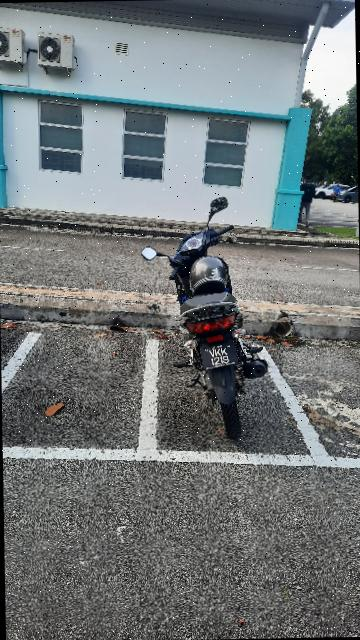License_Plate: (196, 341, 247, 372)
motorcycle: (139, 192, 271, 443)
